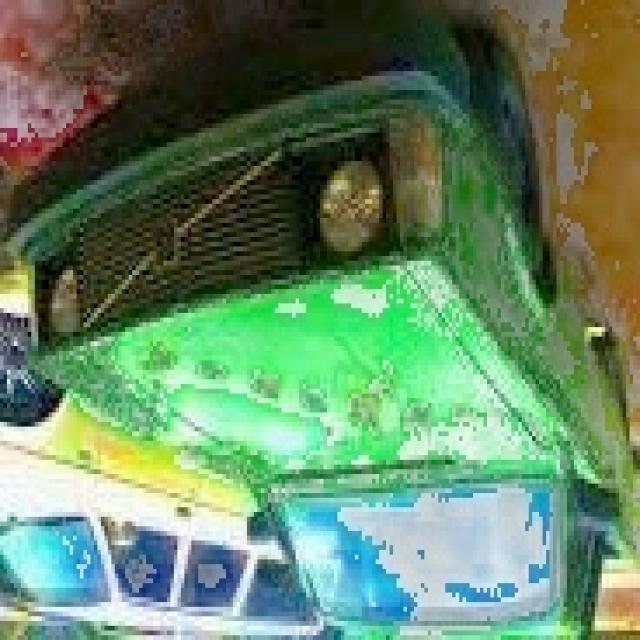green: (5, 19, 635, 640)
